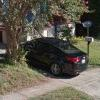Motorcycle: (19, 31, 93, 86)
